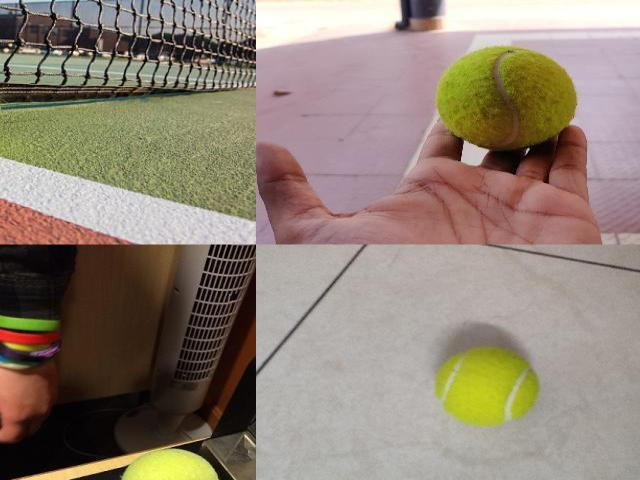tennis-ball: (436, 46, 576, 149), (435, 346, 539, 426), (120, 448, 221, 479)
